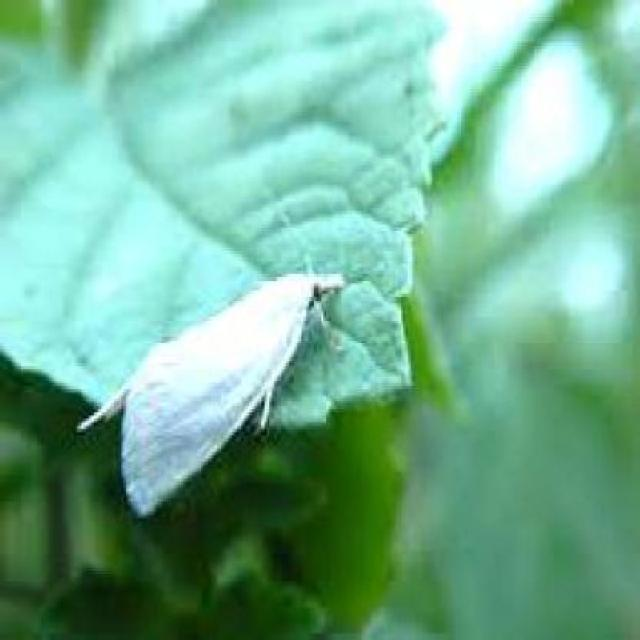stem-borer: (73, 251, 350, 523)
